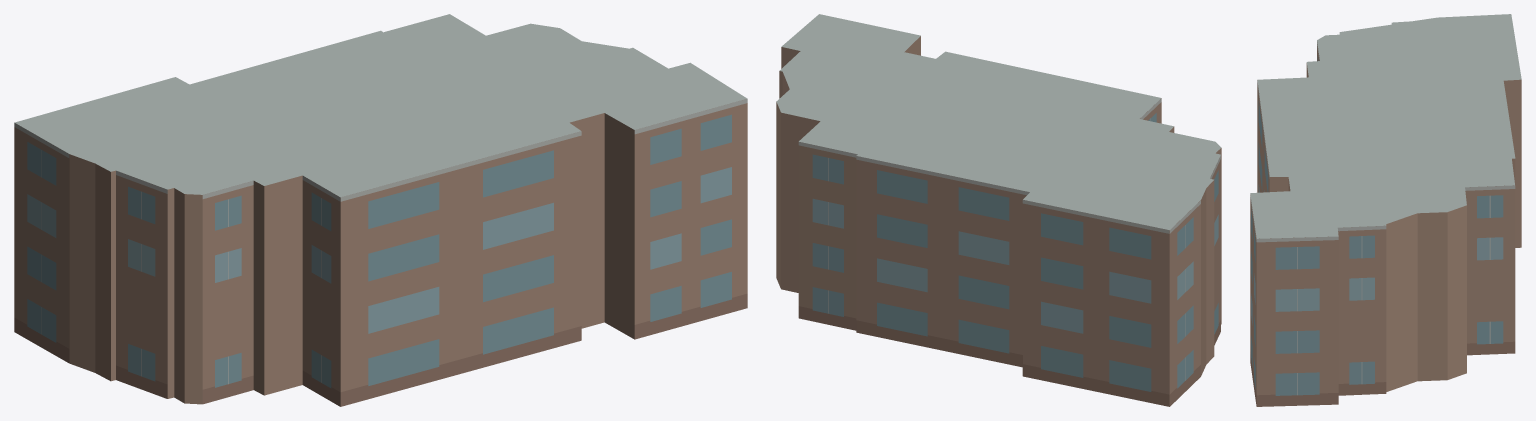
The model's file is survey-upis-32670284.glb.
The picture shows the model from 3 angles, left to right: view 1: azimuth 30°, elevation 25°; view 2: azimuth 150°, elevation 25°; view 3: azimuth 270°, elevation 25°; orthographic projection. The views are drawn at different scales.
Visible parts, largest first — view 1: survey-upis-32670284.tmp; view 2: survey-upis-32670284.tmp; view 3: survey-upis-32670284.tmp.
Part boxes in pixels (<box>): survey-upis-32670284.tmp: <box>14,14,747,406</box>; survey-upis-32670284.tmp: <box>776,14,1221,406</box>; survey-upis-32670284.tmp: <box>1250,14,1521,406</box>.
Bounding box in the file's own units: 33.15 × 11.55 × 16.92.
